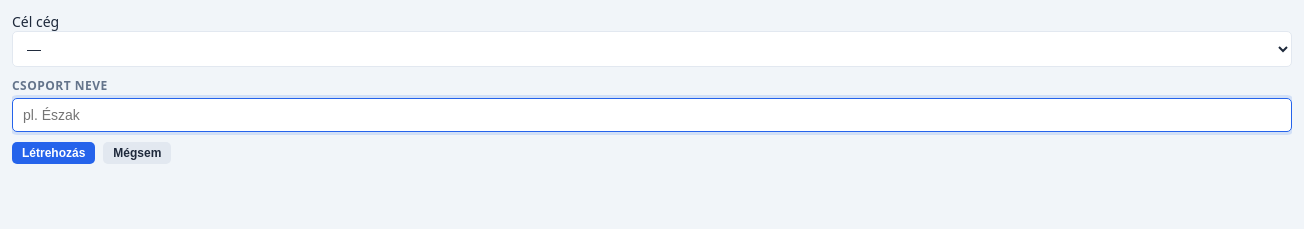
it: SalesGroupForm — szerver-hibák megjelenítése › a cégválasztó hibáját (errors.company_id) a renderBeforeFields slotnak adja át
This screenshot has width=1304, height=229.
Type "Észak" into the field with placeholder "pl. Észak" at (652, 115), box [12,98,1292,132]
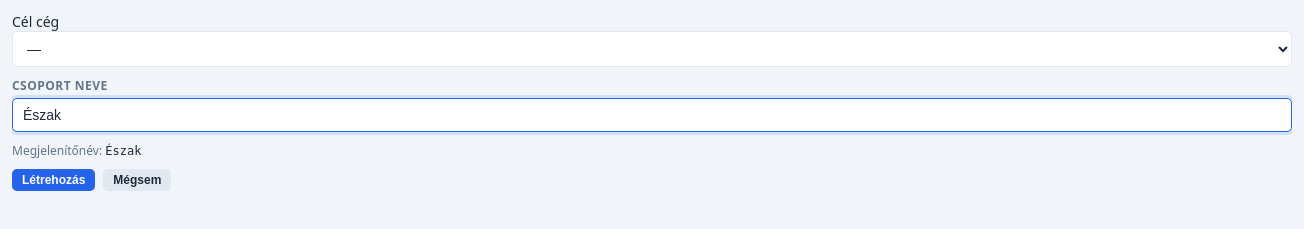
Click the button "Létrehozás" at (54, 180), box [12,169,95,191]
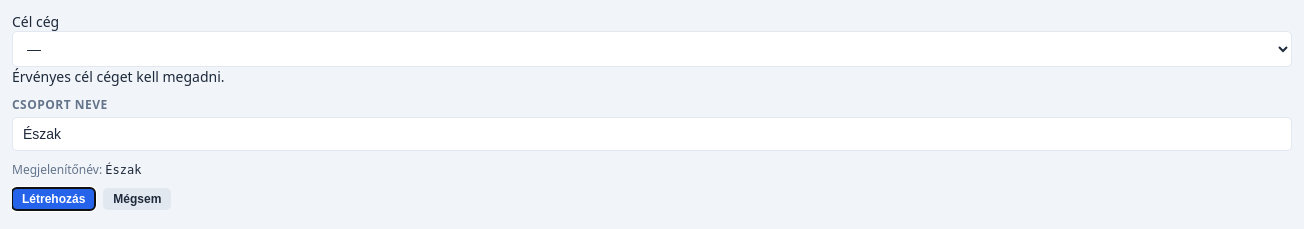
Check: the text "Érvényes cél céget kell megadni." is shown, box [12,67,225,86]
